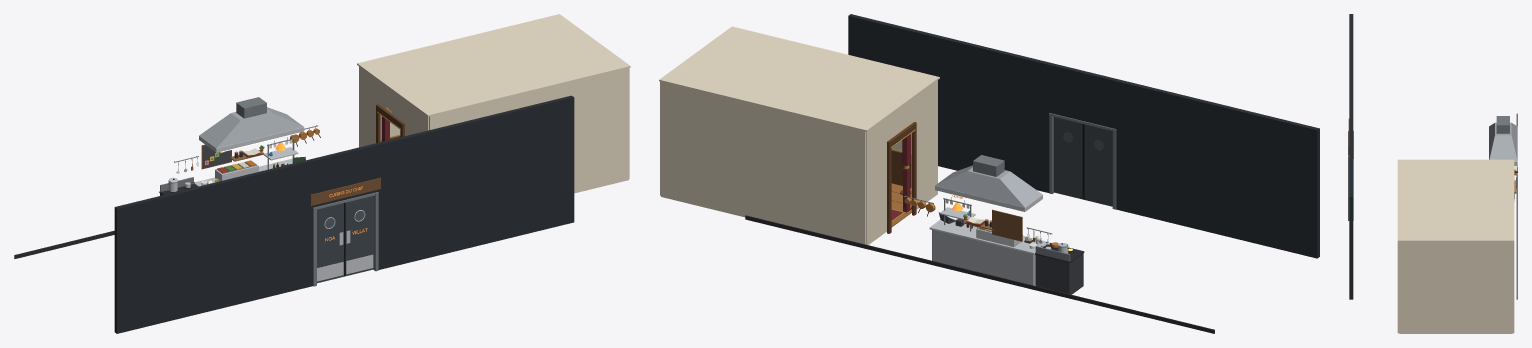
The model's file is poste.glb.
3 renders of one model, left to right at view 1: azimuth 30°, elevation 25°; view 2: azimuth 150°, elevation 25°; view 3: azimuth 270°, elevation 25°, orthographic. The views are drawn at different scales.
Parts seen in each view (by area): view 1: partition_l, partition_r, salle_ceil, salle_side_r, partition_top, door_R, hood_taper, door_L, salle_front_top, door_frame, sign, salle_front_a (+4 smaller); view 2: partition_l, salle_side_l, partition_r, salle_ceil, counter_body, partition_top, door_R, plinth, hood_taper, door_L, salle_front_top, salle_front_b (+8 smaller); view 3: salle_back, salle_ceil, hood_taper, partition_r, partition_l, plinth, salle_side_l, salle_side_r, hood_duct, door_frame.
Part boxes in pixels (x1,y1,x2,y2): partition_l: (114, 159, 314, 333); partition_r: (374, 95, 574, 269); salle_ceil: (357, 14, 630, 116); salle_side_r: (429, 68, 628, 193); partition_top: (313, 144, 376, 207); door_R: (344, 196, 374, 276); hood_taper: (199, 107, 303, 148); door_L: (317, 203, 344, 283); salle_front_top: (359, 66, 428, 134); door_frame: (313, 192, 378, 286); sign: (310, 177, 380, 205); salle_front_a: (359, 97, 381, 147); partition_l: (1114, 79, 1319, 258); salle_side_l: (661, 82, 866, 244); partition_r: (848, 14, 1053, 192); salle_ceil: (659, 26, 939, 131); counter_body: (932, 230, 1035, 285); partition_top: (1051, 63, 1116, 128); door_R: (1053, 117, 1084, 199); plinth: (745, 215, 1214, 333); hood_taper: (935, 165, 1042, 207); door_L: (1084, 124, 1112, 206); salle_front_top: (866, 80, 937, 162); salle_front_b: (911, 111, 937, 211); salle_back: (1399, 242, 1512, 333); salle_ceil: (1397, 159, 1514, 241); hood_taper: (1489, 122, 1517, 161); partition_r: (1349, 117, 1353, 299); partition_l: (1349, 14, 1353, 93); plinth: (1516, 113, 1517, 299); salle_side_l: (1512, 242, 1514, 333); salle_side_r: (1397, 242, 1399, 333); hood_duct: (1496, 116, 1509, 133); door_frame: (1348, 131, 1353, 220).
Size of the model in its own units: 15.45 by 3.45 by 5.1.
